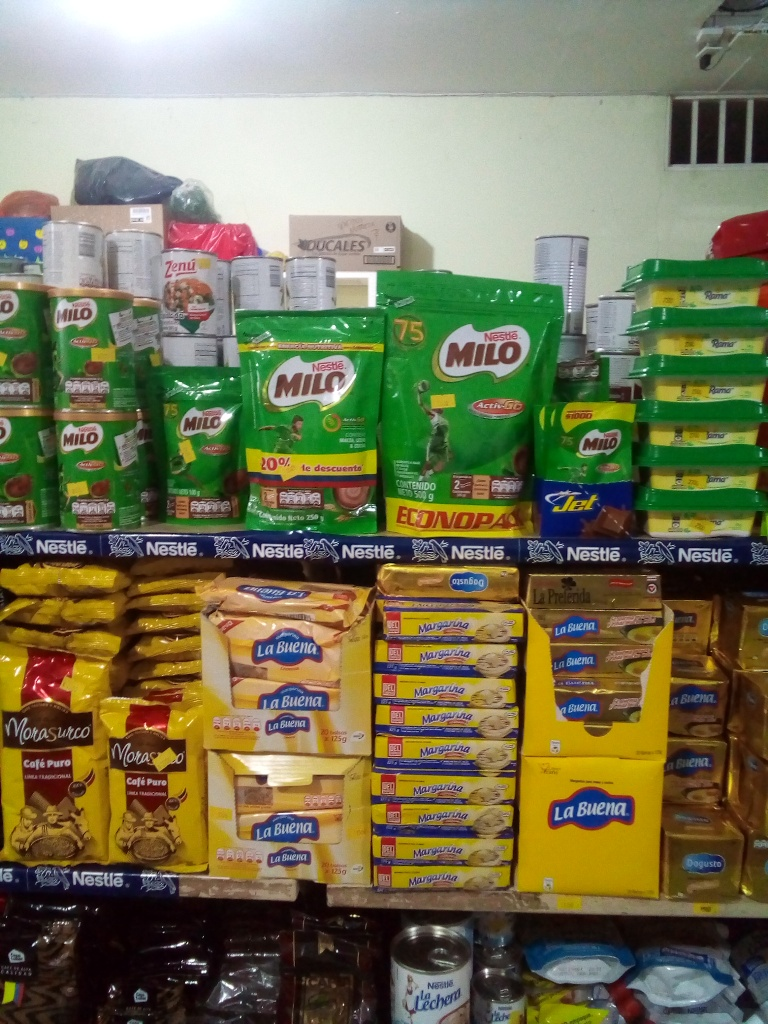COL0170203DYP10000: (147, 355, 236, 531)
COL0170203DYP50000: (377, 266, 553, 534)
COL0170203LAT20000: (43, 285, 144, 416)
